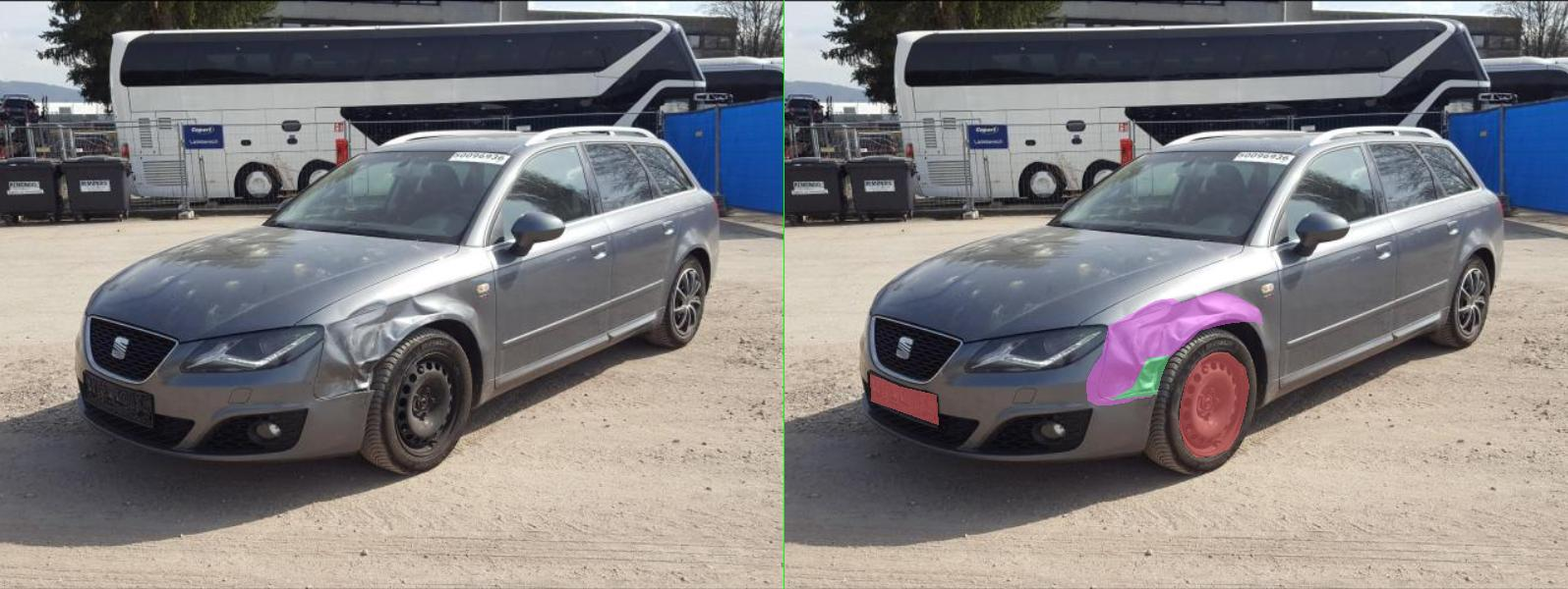Broken part: (653, 355, 769, 400)
Dent: (604, 292, 956, 404)
Missing part: (789, 352, 929, 456), (171, 374, 307, 424)
